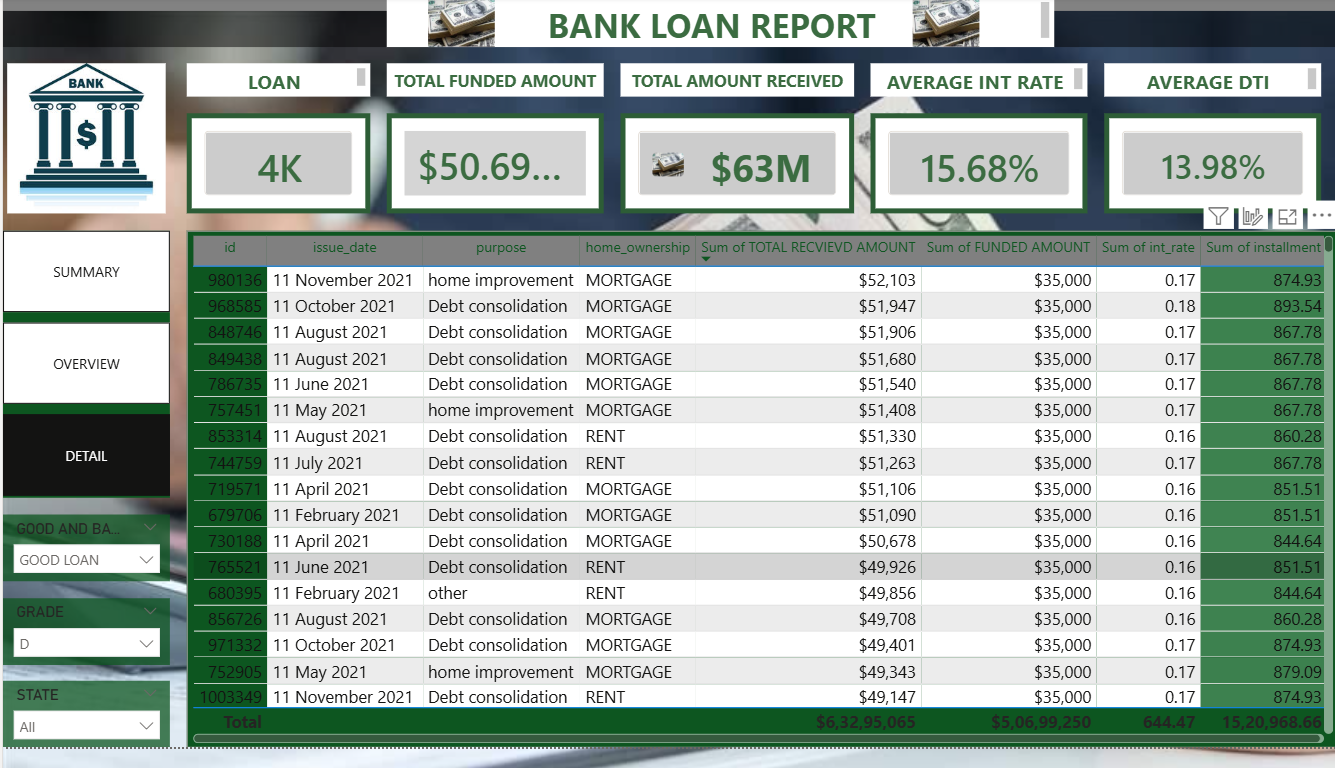

What the dashboard file says about the page in this screenshot:
{"tool":"powerbi","page":{"name":"DETAIL","canvas":[1280,720],"ordinal":2},"visuals":[{"type":"shape","box":[0,0,1280,48],"z":0},{"type":"textbox","box":[368,0,640,48],"z":1000},{"type":"textbox","box":[176,64,176,32],"z":2000},{"type":"cardVisual","fields":{"Data":["Sum(loan_data.loan_amount)"]},"box":[368,112,208,96],"z":3000},{"type":"cardVisual","fields":{"Data":["CountNonNull(loan_data.id)"]},"box":[176,112,176,96],"z":4000},{"type":"textbox","box":[368,64,208,32],"z":5000},{"type":"cardVisual","fields":{"Data":["Sum(loan_data.total_payment)"]},"box":[592,112,224,96],"z":6000},{"type":"textbox","box":[592,64,224,32],"z":7000},{"type":"cardVisual","fields":{"Data":["loan_data.Avg Interest Rate Simple"]},"box":[832,112,208,96],"z":8000},{"type":"textbox","box":[832,64,208,32],"z":9000},{"type":"cardVisual","fields":{"Data":["loan_data.Avg DTI Rate Simple"]},"box":[1056,112,208,96],"z":10000},{"type":"textbox","box":[1056,64,208,32],"z":11000},{"type":"slicer","fields":{"Values":["loan_data.address_state"]},"box":[0,656,160,64],"z":12000},{"type":"slicer","fields":{"Values":["loan_data.grade"]},"box":[0,576,160,64],"z":13000},{"type":"slicer","fields":{"Values":["loan_data.GOOD AND BAD LOAN"]},"box":[0,496,160,64],"z":14000},{"type":"image","box":[816,0,176,48],"z":15000},{"type":"image","box":[384,0,112,48],"z":16000},{"type":"image","box":[0,64,160,144],"z":17000},{"type":"tableEx","fields":{"Values":["loan_data.id","loan_data.issue_date","loan_data.purpose","loan_data.home_ownership","Sum(loan_data.TOTAL RECVIEVD AMOUNT)","Sum(loan_data.FUNDED AMOUNT)","Sum(loan_data.int_rate)","Sum(loan_data.installment)"]},"box":[176,224,1104,496],"z":18001},{"type":"pageNavigator","box":[0,224,160,256],"z":18002}]}

Visuals, with their boxes on the page's 1280x720 design canvas (x1, y1, x2, y2). These are canvas units, not pixel positions in the 1335x768 screenshot, which may show the page scaled, cropped or inside an application window:
shape: crop(0, 0, 1280, 48)
textbox: crop(368, 0, 1008, 48)
textbox: crop(176, 64, 352, 96)
cardVisual - Sum(loan_data.loan_amount): crop(368, 112, 576, 208)
cardVisual - CountNonNull(loan_data.id): crop(176, 112, 352, 208)
textbox: crop(368, 64, 576, 96)
cardVisual - Sum(loan_data.total_payment): crop(592, 112, 816, 208)
textbox: crop(592, 64, 816, 96)
cardVisual - loan_data.Avg Interest Rate Simple: crop(832, 112, 1040, 208)
textbox: crop(832, 64, 1040, 96)
cardVisual - loan_data.Avg DTI Rate Simple: crop(1056, 112, 1264, 208)
textbox: crop(1056, 64, 1264, 96)
slicer - loan_data.address_state: crop(0, 656, 160, 720)
slicer - loan_data.grade: crop(0, 576, 160, 640)
slicer - loan_data.GOOD AND BAD LOAN: crop(0, 496, 160, 560)
image: crop(816, 0, 992, 48)
image: crop(384, 0, 496, 48)
image: crop(0, 64, 160, 208)
tableEx - loan_data.id x loan_data.issue_date: crop(176, 224, 1280, 720)
pageNavigator: crop(0, 224, 160, 480)
